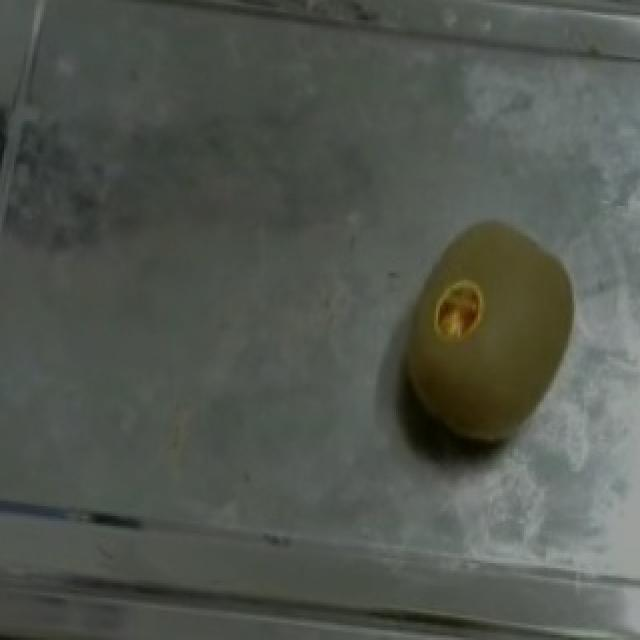Fruit: (384, 211, 586, 464)
